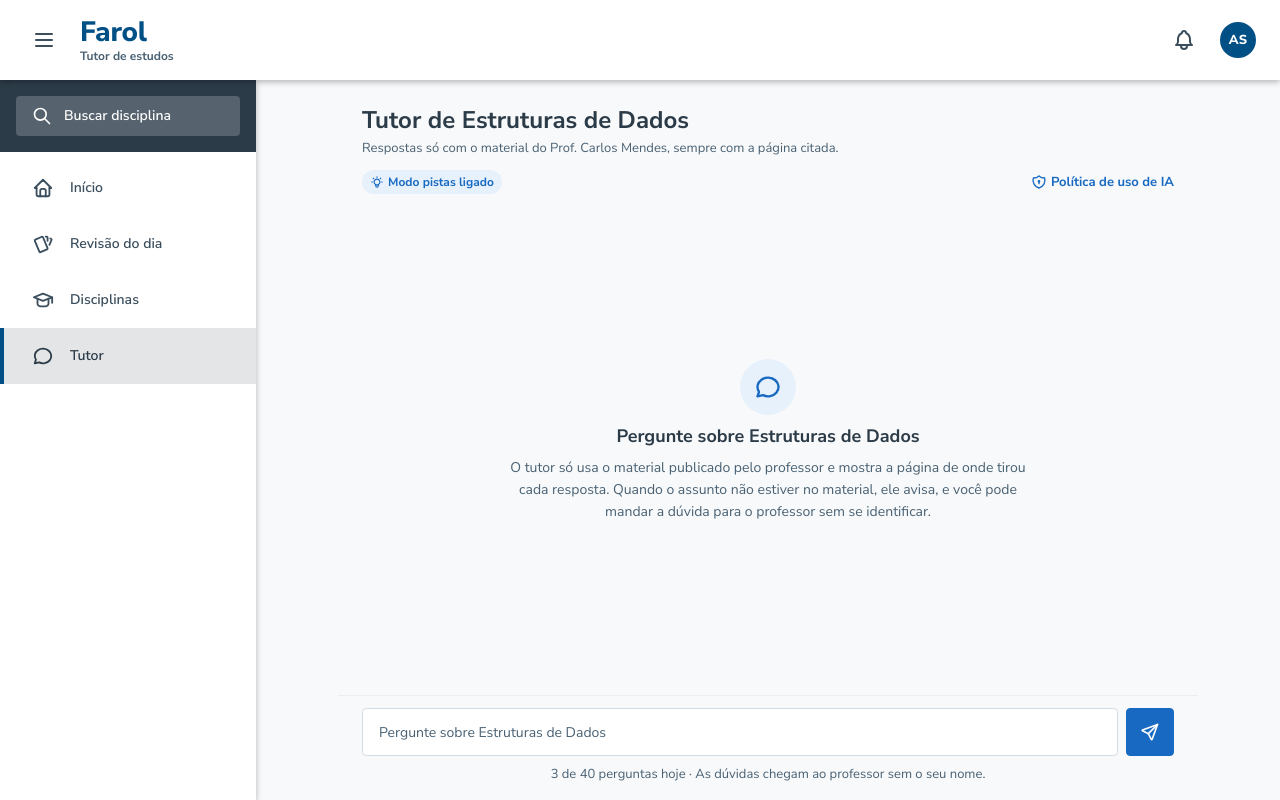
it: tela do tutor (TUT-T24) › marca a resposta em modo pistas
The width and height of the screenshot is (1280, 800).
Type "Me dá a resposta do exercício de pilha" into the field named "Sua pergunta" at (740, 732), box x1=362 y1=708 x2=1118 y2=756
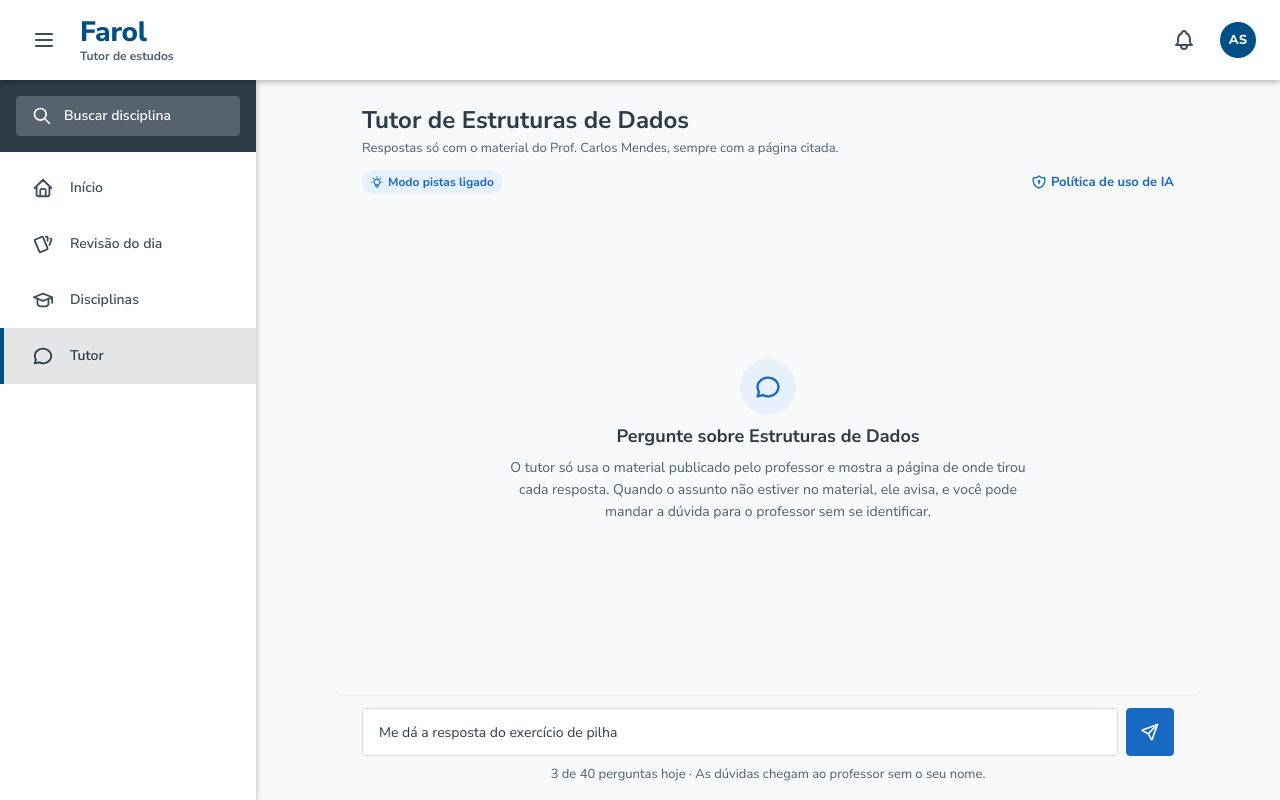
Click the button named "Enviar pergunta" at (1150, 732), box x1=1126 y1=708 x2=1174 y2=756
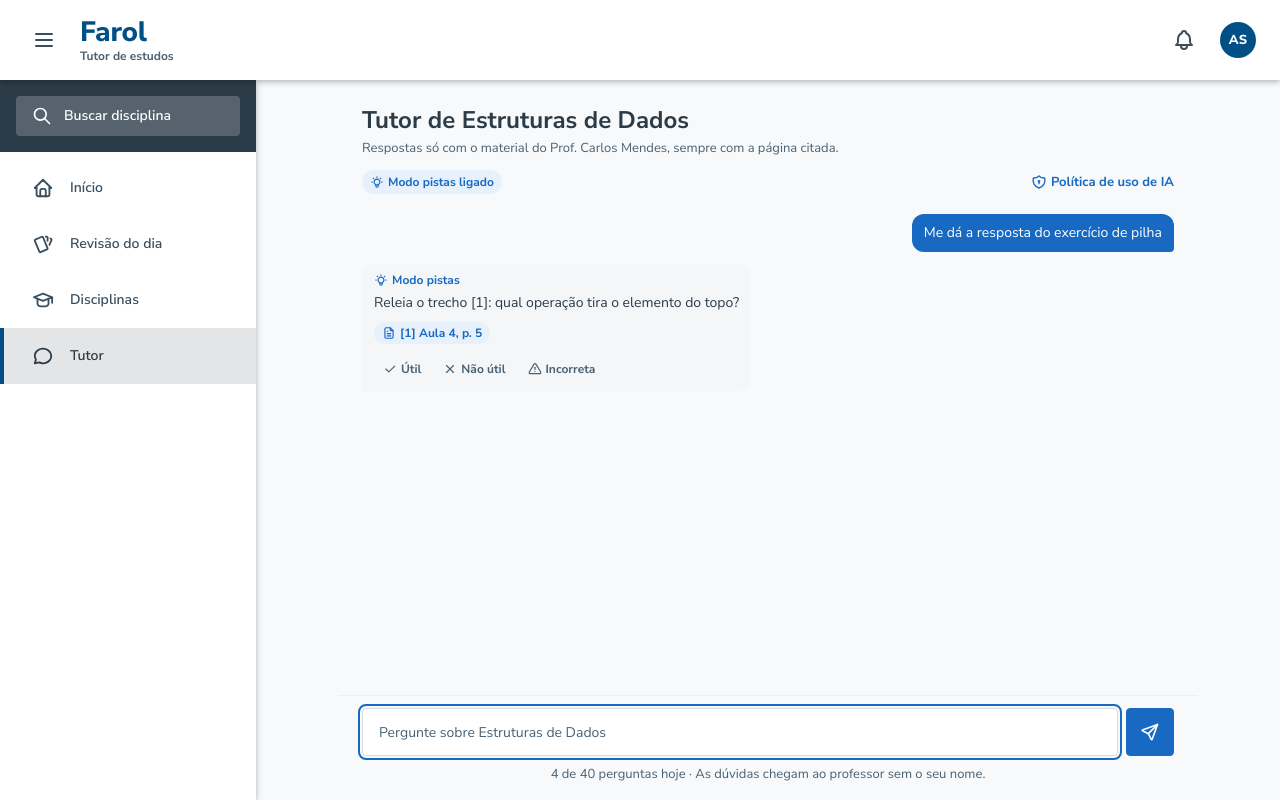
Result: the text "Modo pistas" is shown at x1=374 y1=272 x2=460 y2=288
